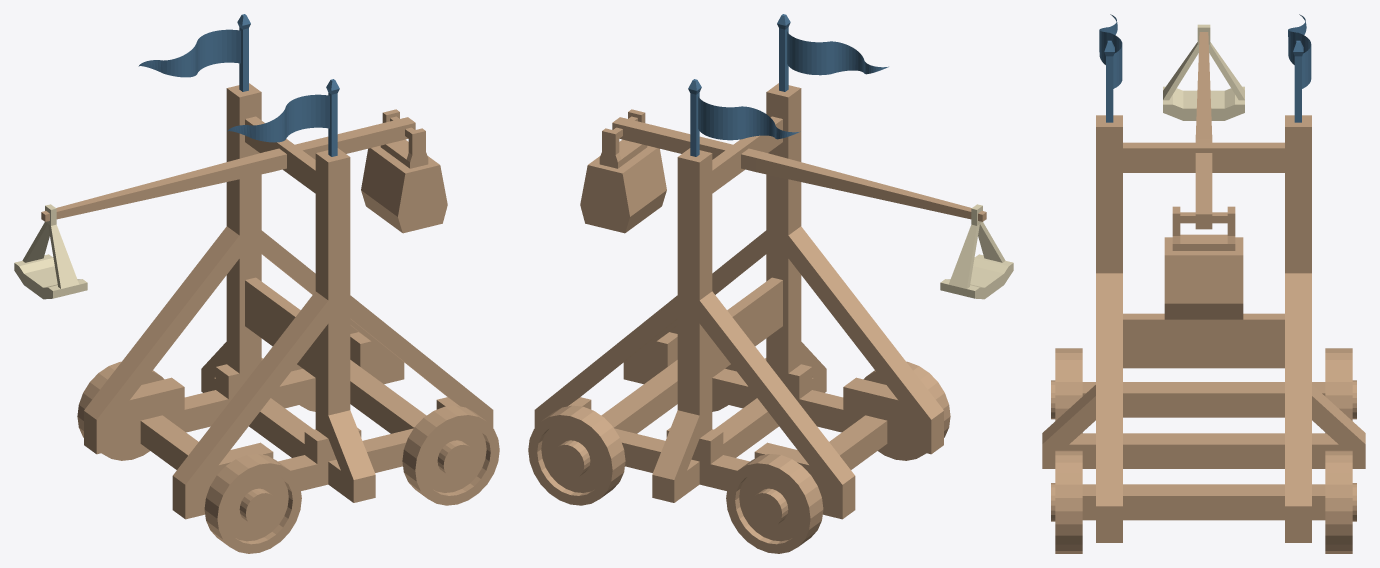
Rendered from siegetrebuchet.glb.
3 renders of one model, left to right at view 1: azimuth 30°, elevation 25°; view 2: azimuth 150°, elevation 25°; view 3: azimuth 270°, elevation 25°, orthographic. The views are drawn at different scales.
Visible parts, largest first — view 1: body 9, wheelFrontRight 14, wheelBackRight 11, weight 2, trebuchet 2, catapult 5, flag 27, flag 26, wheelBackLeft 11; view 2: body 9, wheelFrontLeft 14, wheelBackLeft 11, weight 2, trebuchet 2, catapult 5, flag 26, flag 27, wheelBackRight 11; view 3: body 9, weight 2, catapult 5, wheelFrontLeft 14, wheelFrontRight 14, trebuchet 2, wheelBackLeft 11, wheelBackRight 11, flag 26, flag 27.
Boxes of the visible parts, x1=… form: body 9: x1=84, y1=83, x2=493, y2=519; wheelFrontRight 14: x1=402, y1=405, x2=499, y2=505; wheelBackRight 11: x1=204, y1=454, x2=301, y2=553; weight 2: x1=361, y1=109, x2=447, y2=233; trebuchet 2: x1=41, y1=117, x2=415, y2=221; catapult 5: x1=14, y1=204, x2=87, y2=299; flag 27: x1=227, y1=79, x2=339, y2=156; flag 26: x1=138, y1=14, x2=250, y2=91; wheelBackLeft 11: x1=77, y1=361, x2=164, y2=460; body 9: x1=534, y1=83, x2=943, y2=519; wheelFrontLeft 14: x1=528, y1=405, x2=625, y2=505; wheelBackLeft 11: x1=726, y1=454, x2=823, y2=553; weight 2: x1=580, y1=109, x2=666, y2=233; trebuchet 2: x1=612, y1=117, x2=986, y2=221; catapult 5: x1=940, y1=204, x2=1013, y2=299; flag 26: x1=688, y1=79, x2=800, y2=156; flag 27: x1=777, y1=14, x2=888, y2=91; wheelBackRight 11: x1=863, y1=361, x2=950, y2=460; body 9: x1=1042, y1=115, x2=1365, y2=542; weight 2: x1=1164, y1=206, x2=1243, y2=319; catapult 5: x1=1163, y1=24, x2=1244, y2=120; wheelFrontLeft 14: x1=1325, y1=450, x2=1356, y2=553; wheelFrontRight 14: x1=1051, y1=450, x2=1082, y2=553; trebuchet 2: x1=1195, y1=32, x2=1212, y2=229; wheelBackLeft 11: x1=1325, y1=348, x2=1356, y2=433; wheelBackRight 11: x1=1051, y1=348, x2=1082, y2=433; flag 26: x1=1288, y1=14, x2=1311, y2=122; flag 27: x1=1099, y1=14, x2=1122, y2=122.
Bounding box in the file's own units: 19.5 × 19.59 × 12.58.
